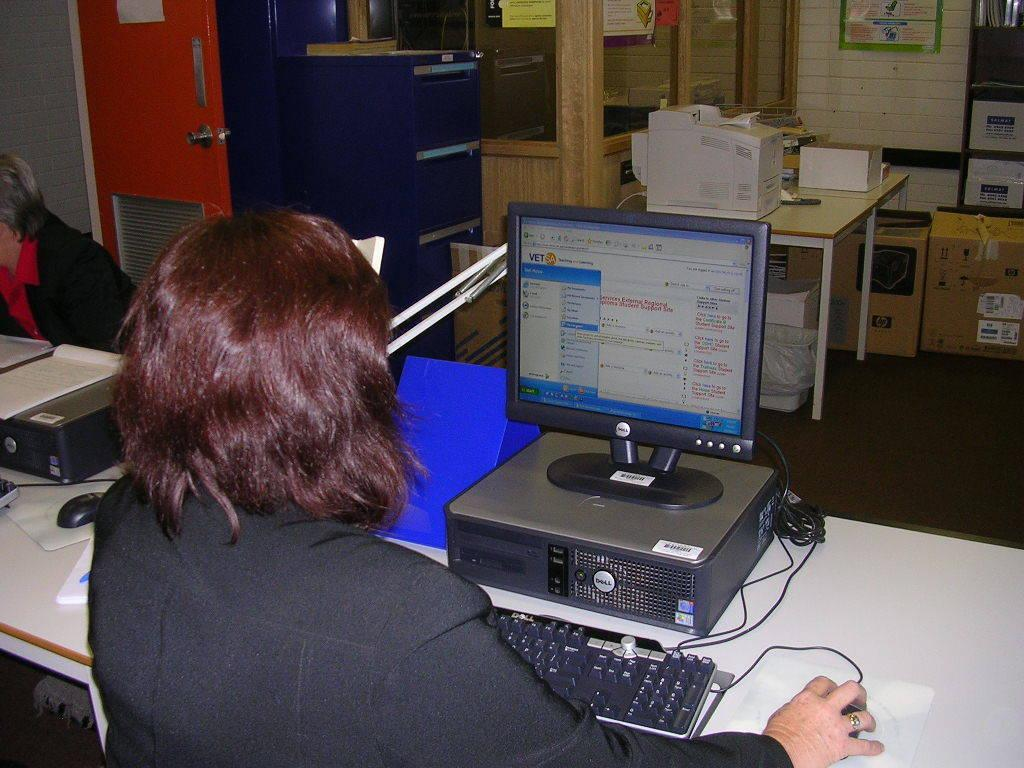Computer-keyboard: (495, 604, 720, 739), (0, 479, 21, 515)
Computer-monitor: (492, 207, 778, 513)
